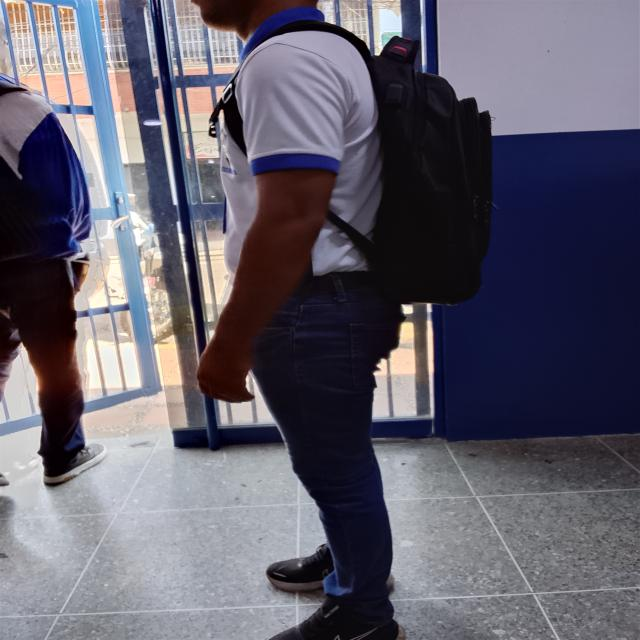uniforme_superior: (219, 6, 383, 276)
